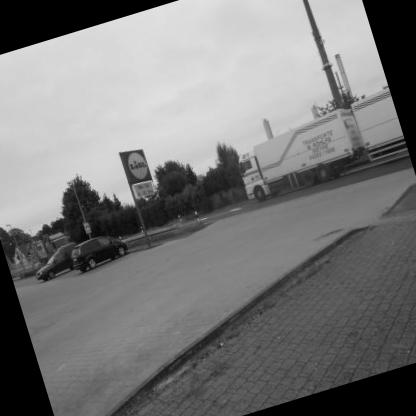car: (63, 224, 141, 284), (32, 241, 77, 285)
truck: (219, 106, 374, 217)
